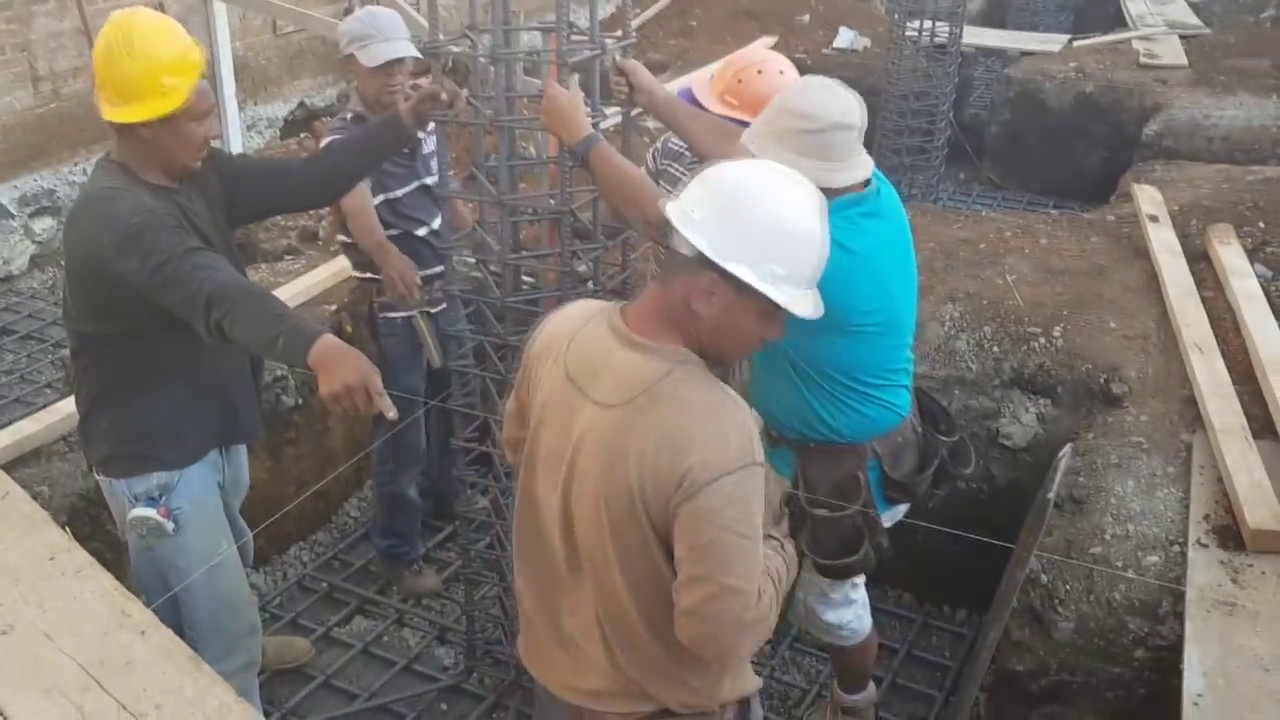helmet: (657, 155, 830, 320), (85, 4, 204, 126), (691, 47, 805, 129)
helmet-off: (735, 74, 879, 204), (332, 5, 417, 116)
helmet-on: (606, 154, 831, 369), (82, 3, 225, 195)
person: (62, 4, 453, 716), (542, 53, 922, 717), (504, 156, 831, 718), (319, 0, 489, 602)
